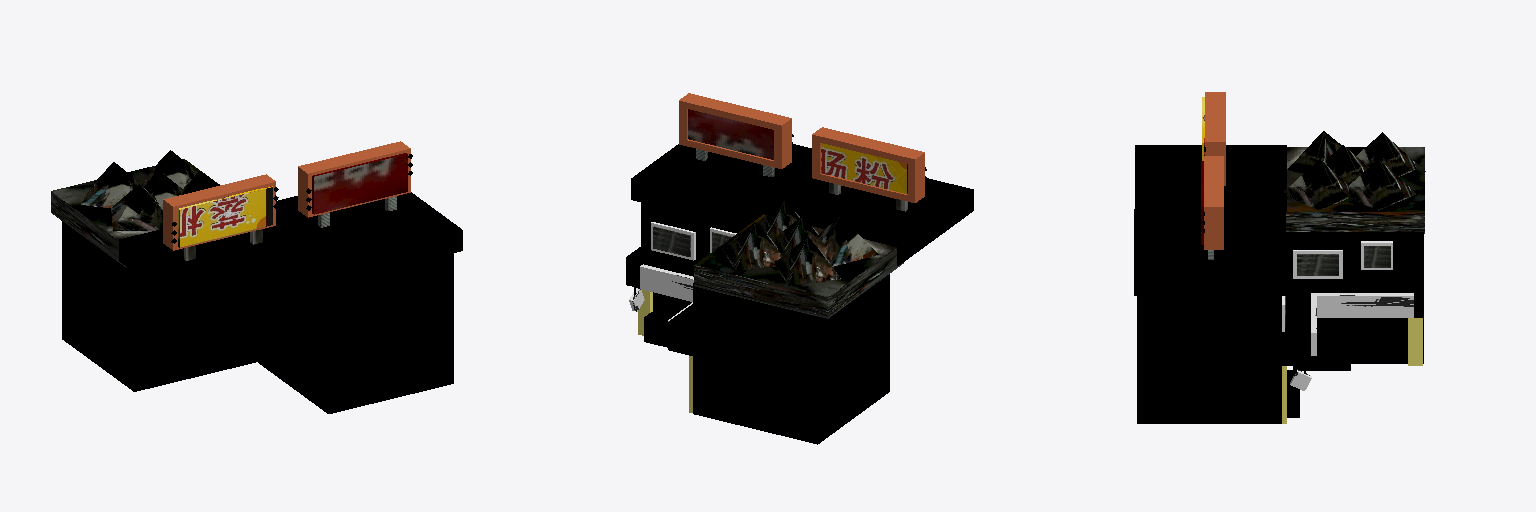
The picture shows the model from 3 angles: view 1: azimuth 30°, elevation 25°; view 2: azimuth 150°, elevation 25°; view 3: azimuth 270°, elevation 25°; orthographic projection.
Visible parts, largest first — view 1: 0000_1110; view 2: 0000_1110; view 3: 0000_1110.
Part boxes in pixels (x1,y1,x2,y2): 0000_1110: (51,141,462,413); 0000_1110: (626,93,973,444); 0000_1110: (1134,92,1425,423).
Size of the model in its own units: 1.07 by 0.814 by 1.01.
Materials: 17 (7 with a texture image).